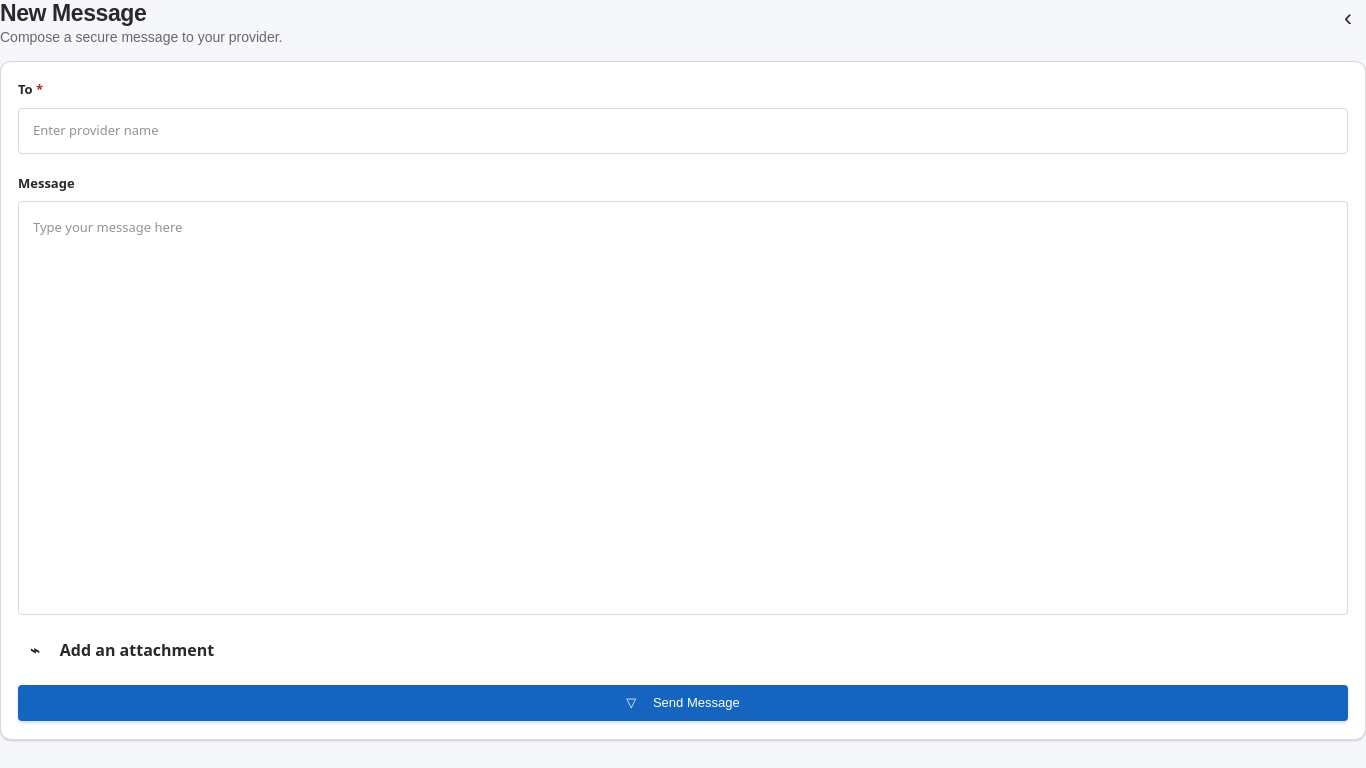
CareConnect New Message › validates a message that is shorter than 10 characters
Type "Dr. Smith" into the field with placeholder "Enter provider name" at coordinates (683, 130), box [18,108,1348,154]
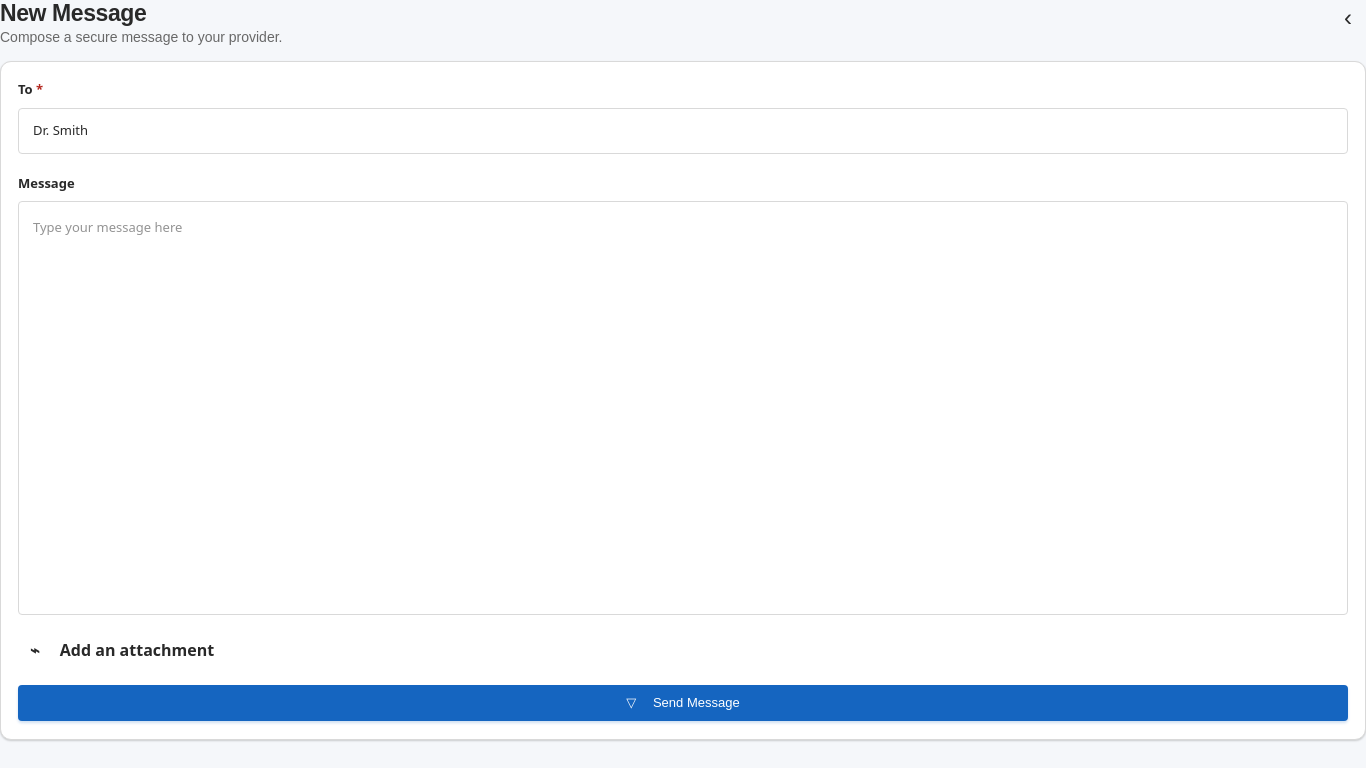
Type "Hi" into the text box with placeholder "Type your message here" at coordinates (683, 408), box [18,201,1348,615]
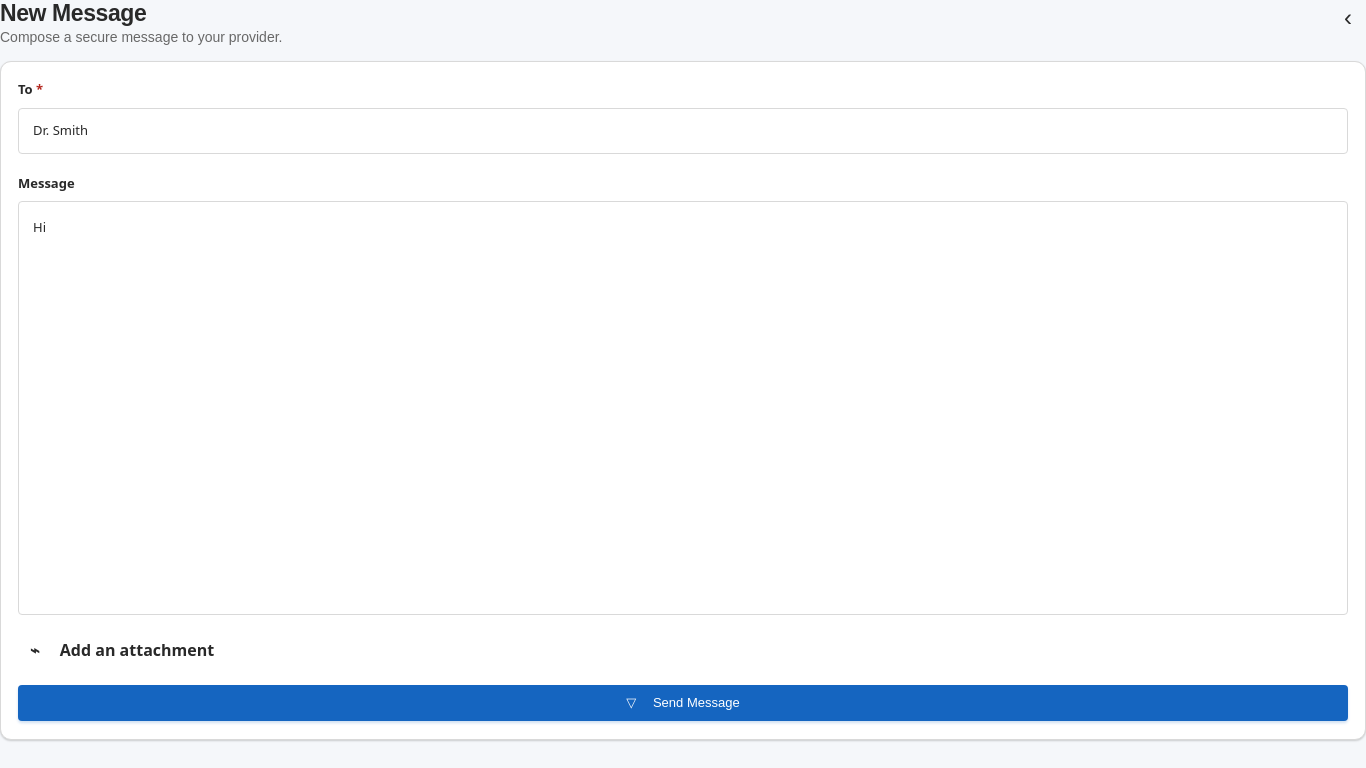
Click the button "▽ Send Message" at coordinates (683, 703), box [18,685,1348,721]
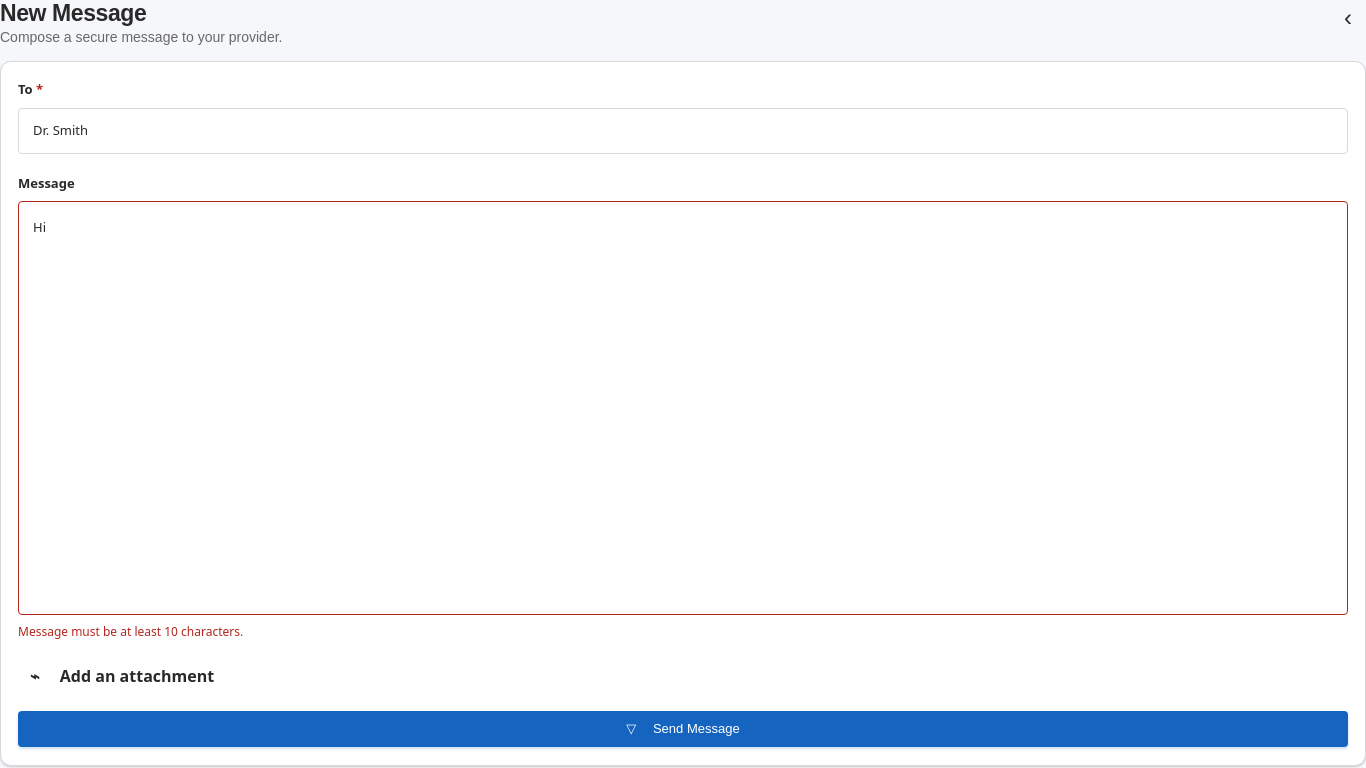
Now the text "Message must be at least 10 characters." is shown, box [18,623,243,640]
